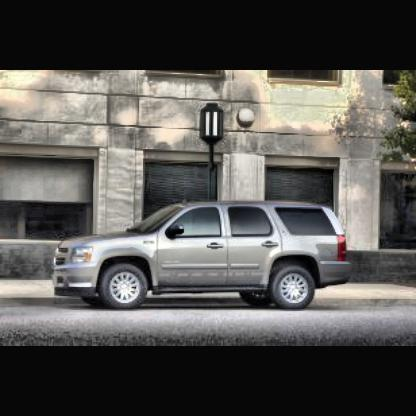Chevrolet Tahoe Hybrid SUV 2012: (51, 201, 358, 315)
